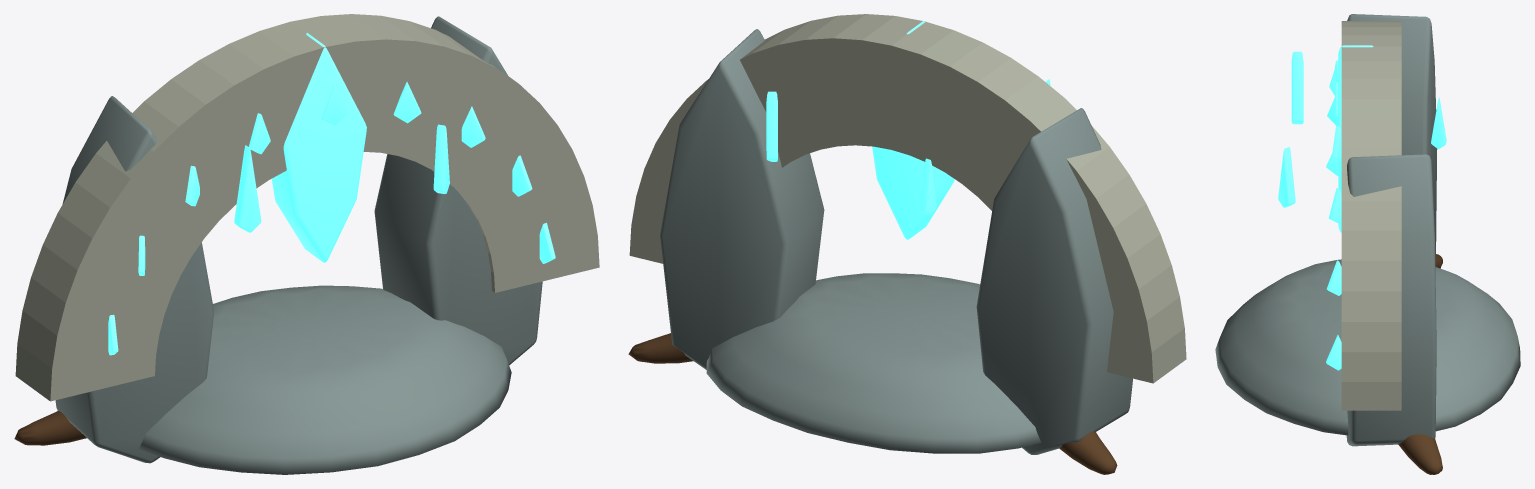
Rendered from waystone.glb.
The picture shows the model from 3 angles, left to right: view 1: azimuth 30°, elevation 25°; view 2: azimuth 150°, elevation 25°; view 3: azimuth 270°, elevation 25°; orthographic projection. The views are drawn at different scales.
Parts seen in each view (by area): view 1: Broken runic waypoint arch, Waystone circular footing, Rooted arch buttress 1, Rooted arch buttress -1, Suspended waypoint crystal, Waystone root -1, Orbiting crystal shard 0, Orbiting crystal shard 1, Arch rune 3, Arch rune 2; view 2: Broken runic waypoint arch, Waystone circular footing, Rooted arch buttress -1, Rooted arch buttress 1, Suspended waypoint crystal, Waystone root -1, Waystone root 1, Orbiting crystal shard 3, Orbiting crystal shard 2; view 3: Waystone circular footing, Broken runic waypoint arch, Rooted arch buttress 1, Rooted arch buttress -1, Waystone root 1, Orbiting crystal shard 0, Orbiting crystal shard 1, Suspended waypoint crystal, Orbiting crystal shard 2, Arch rune 0, Arch rune 1, Arch rune 2.
Boxes of the visible parts, x1=… form: Broken runic waypoint arch: x1=15, y1=14, x2=599, y2=401; Waystone circular footing: x1=139, y1=285, x2=511, y2=474; Rooted arch buttress 1: x1=374, y1=16, x2=542, y2=365; Rooted arch buttress -1: x1=55, y1=96, x2=214, y2=463; Suspended waypoint crystal: x1=271, y1=33, x2=366, y2=262; Waystone root -1: x1=14, y1=411, x2=86, y2=445; Orbiting crystal shard 0: x1=234, y1=145, x2=261, y2=232; Orbiting crystal shard 1: x1=433, y1=124, x2=449, y2=193; Arch rune 3: x1=393, y1=82, x2=421, y2=123; Arch rune 2: x1=461, y1=106, x2=485, y2=147; Broken runic waypoint arch: x1=629, y1=14, x2=1186, y2=383; Waystone circular footing: x1=706, y1=273, x2=1040, y2=453; Rooted arch buttress -1: x1=976, y1=108, x2=1132, y2=454; Rooted arch buttress 1: x1=660, y1=29, x2=824, y2=369; Suspended waypoint crystal: x1=872, y1=20, x2=954, y2=239; Waystone root -1: x1=1059, y1=431, x2=1117, y2=474; Waystone root 1: x1=628, y1=333, x2=693, y2=363; Orbiting crystal shard 3: x1=766, y1=91, x2=777, y2=161; Orbiting crystal shard 2: x1=920, y1=158, x2=936, y2=215; Waystone circular footing: x1=1215, y1=259, x2=1520, y2=435; Broken runic waypoint arch: x1=1341, y1=21, x2=1401, y2=410; Rooted arch buttress 1: x1=1346, y1=154, x2=1436, y2=446; Rooted arch buttress -1: x1=1347, y1=14, x2=1437, y2=262; Waystone root 1: x1=1398, y1=434, x2=1442, y2=474; Orbiting crystal shard 0: x1=1291, y1=51, x2=1303, y2=124; Orbiting crystal shard 1: x1=1278, y1=147, x2=1295, y2=207; Suspended waypoint crystal: x1=1338, y1=45, x2=1373, y2=232; Orbiting crystal shard 2: x1=1431, y1=97, x2=1446, y2=148; Arch rune 0: x1=1326, y1=335, x2=1341, y2=370; Arch rune 1: x1=1327, y1=260, x2=1341, y2=295; Arch rune 2: x1=1328, y1=188, x2=1341, y2=223.
Bounding box in the file's own units: 3.1 × 2.05 × 1.73.
